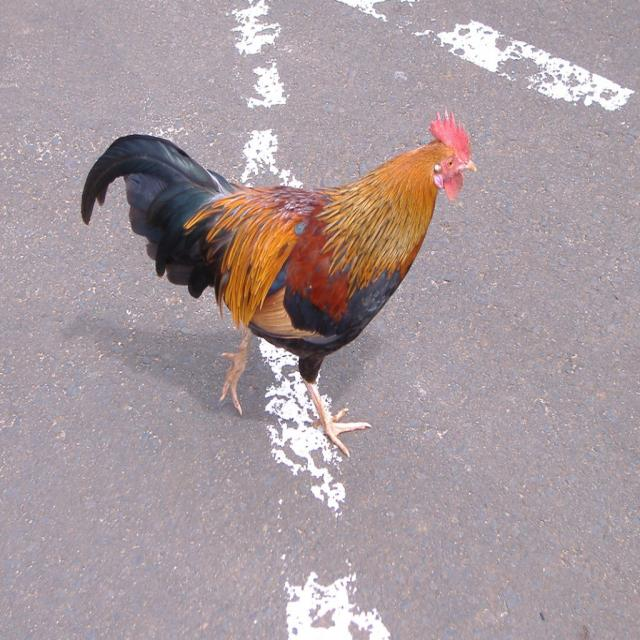Chicken: (76, 112, 477, 464)
